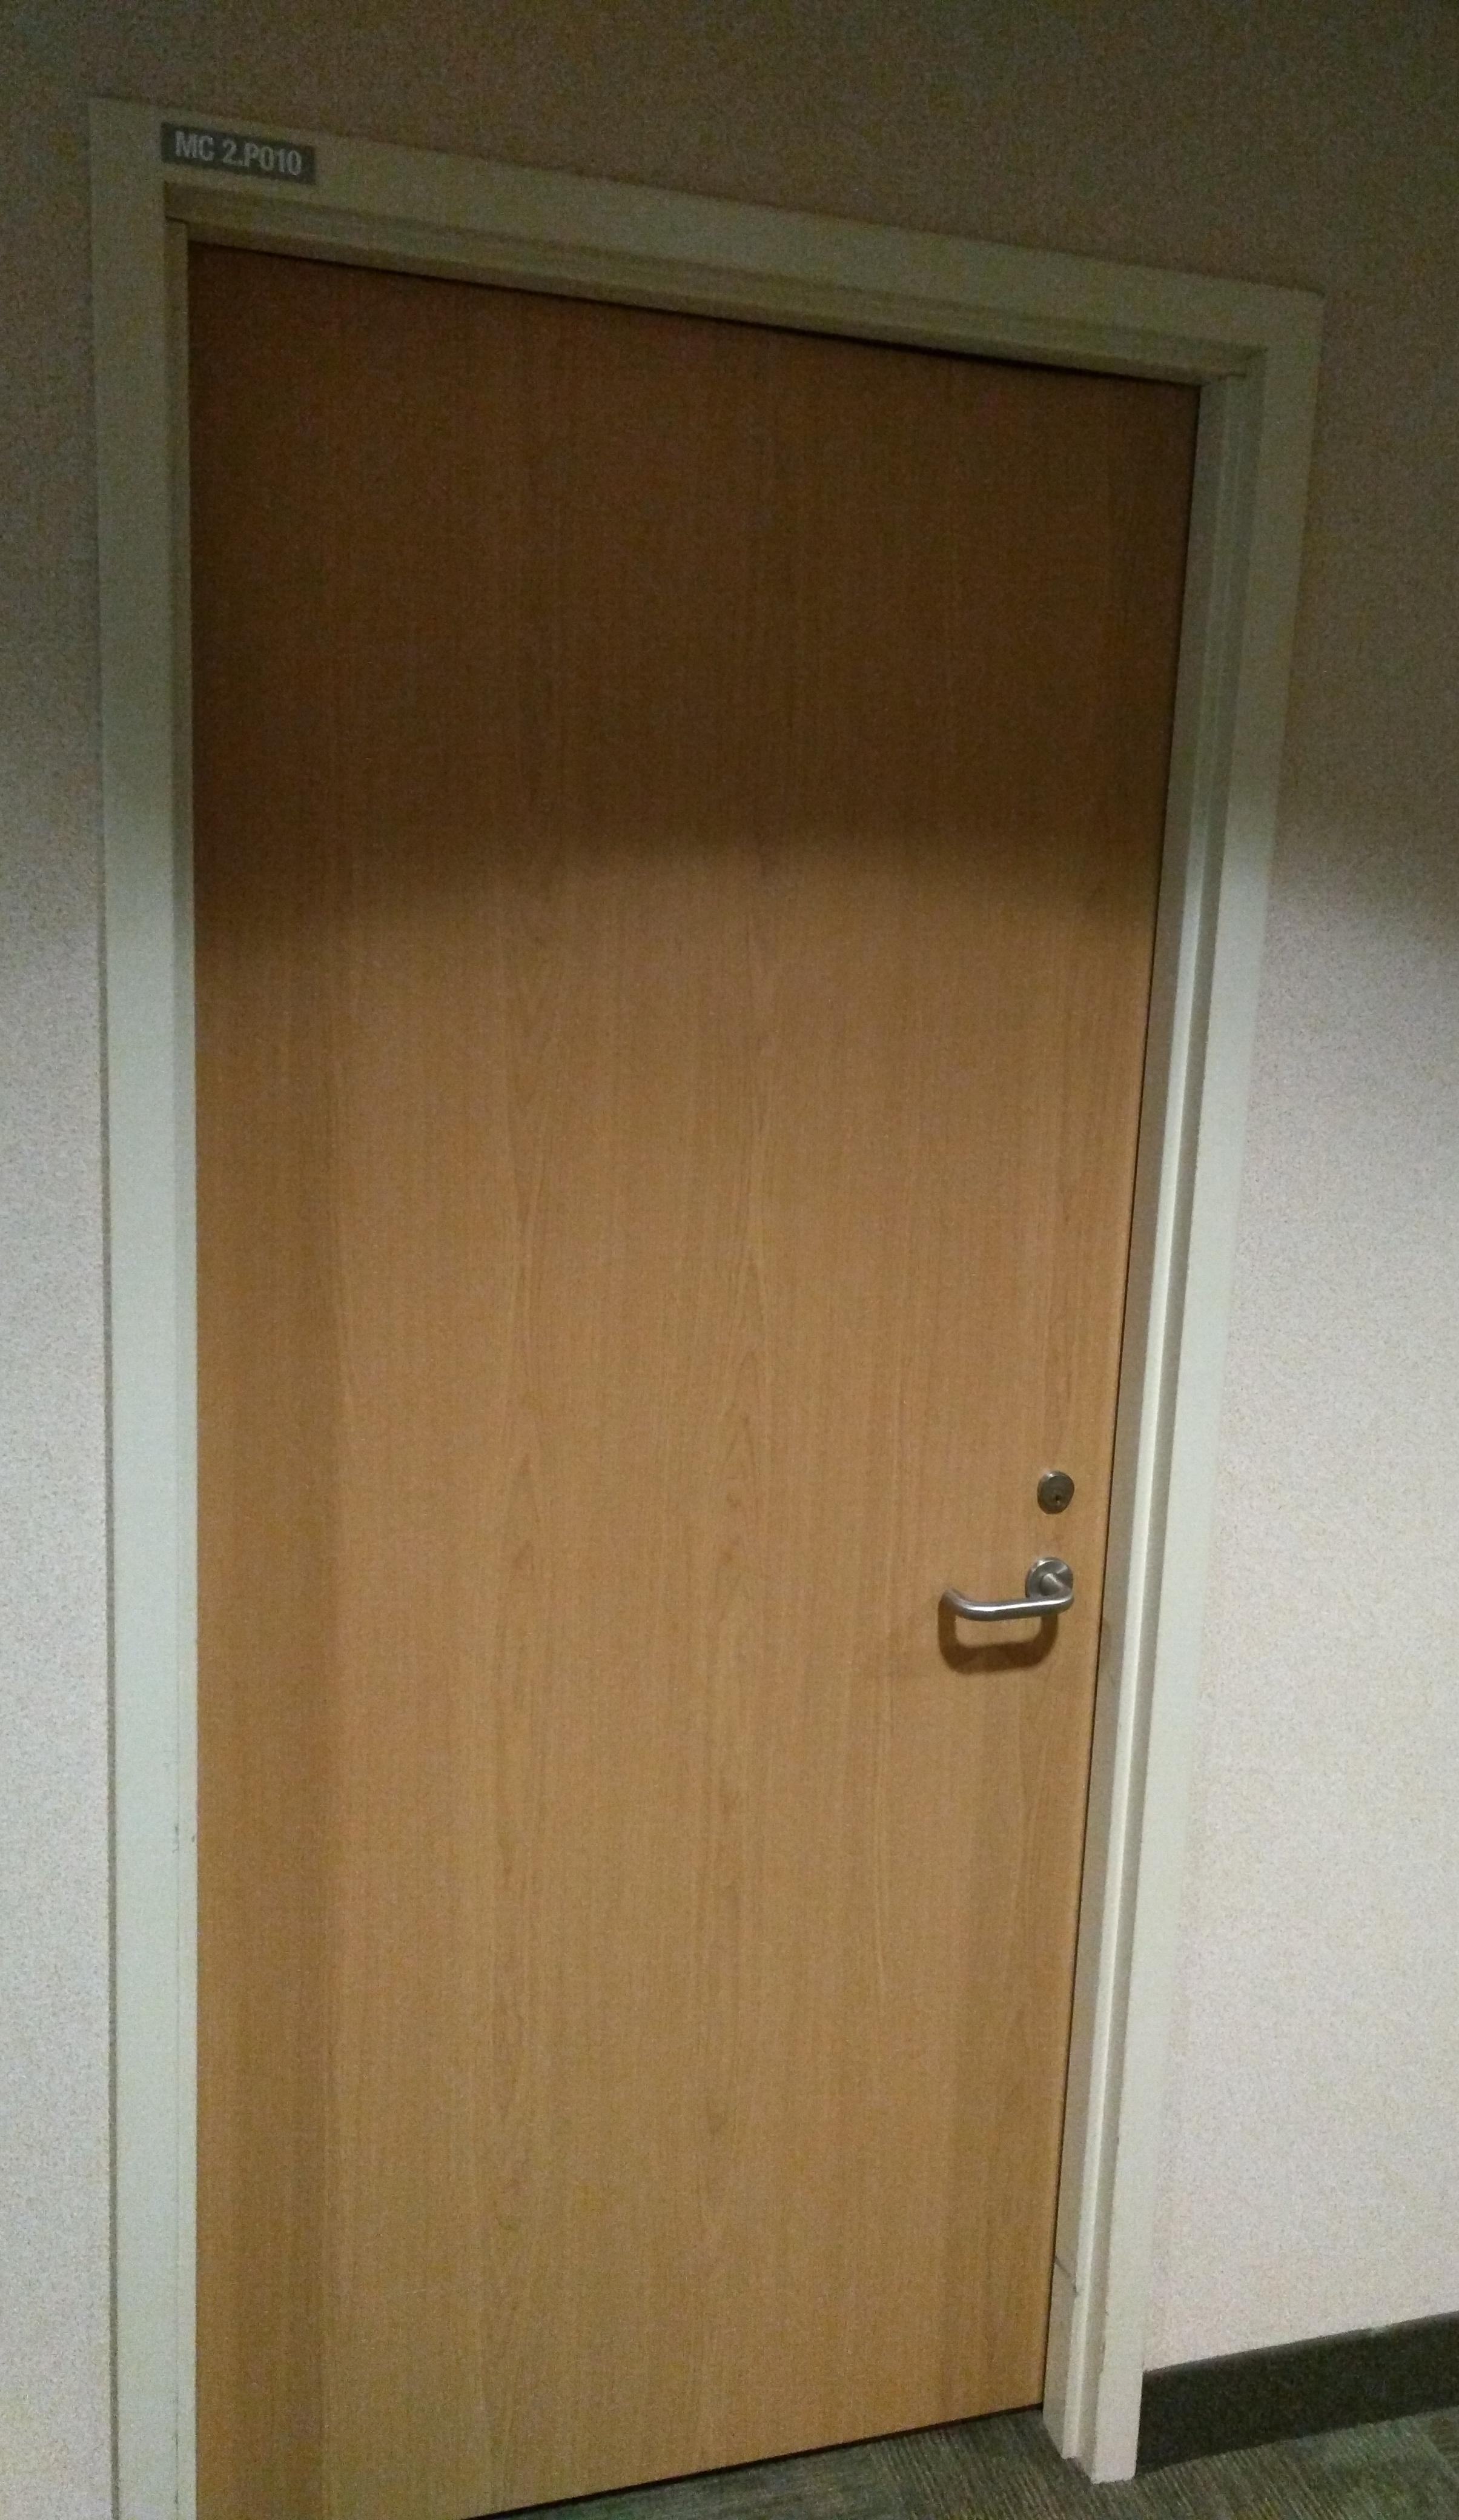door: (155, 174, 1209, 2503)
